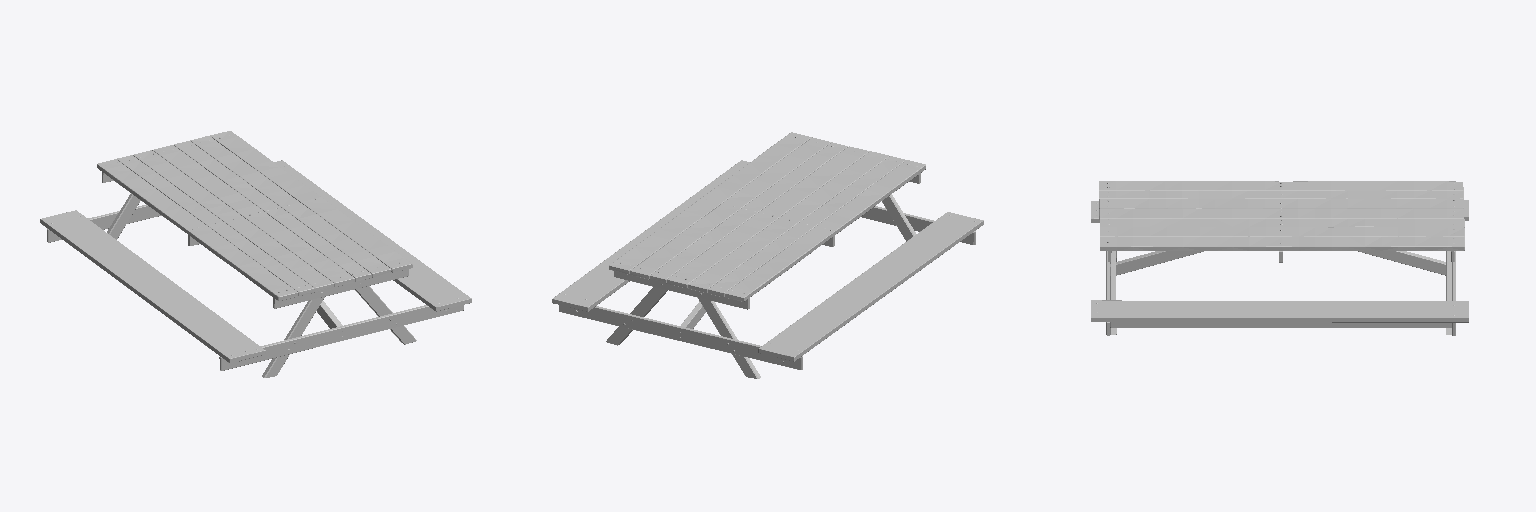
The model's file is wooden_picnic_table_1k.obj.
The picture shows the model from 3 angles: view 1: azimuth 30°, elevation 25°; view 2: azimuth 150°, elevation 25°; view 3: azimuth 270°, elevation 25°; orthographic projection.
Parts seen in each view (by area): view 1: wooden_picnic_table; view 2: wooden_picnic_table; view 3: wooden_picnic_table.
Boxes of the visible parts, x1=… form: wooden_picnic_table: x1=40, y1=131, x2=471, y2=377; wooden_picnic_table: x1=552, y1=132, x2=983, y2=378; wooden_picnic_table: x1=1091, y1=181, x2=1468, y2=335.
Bounding box in the file's own units: 2.24 × 0.746 × 3.02.